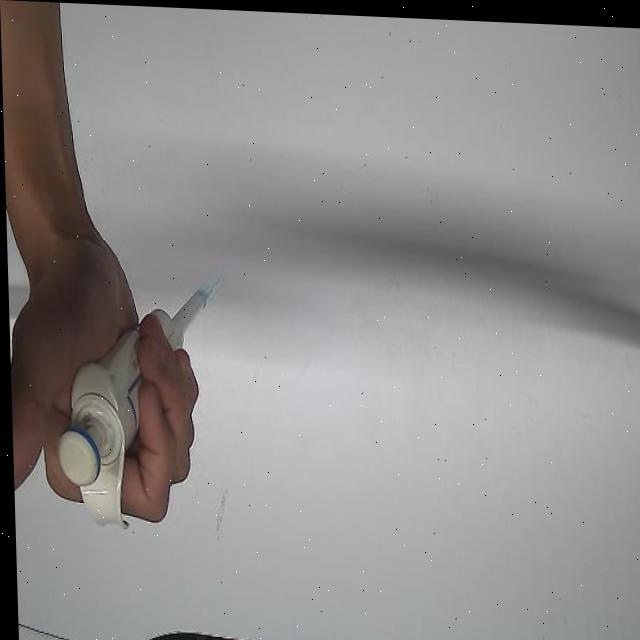Micropipette Tip 1000 uL: (193, 269, 225, 308)
Single Channel Pipettor: (49, 273, 217, 533)
